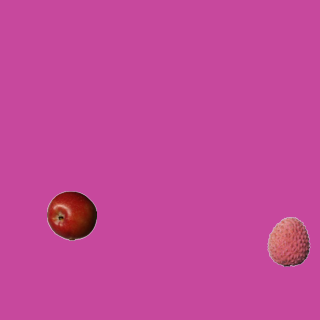Apple Braeburn: (46, 190, 96, 240)
Lychee: (263, 216, 313, 266)
